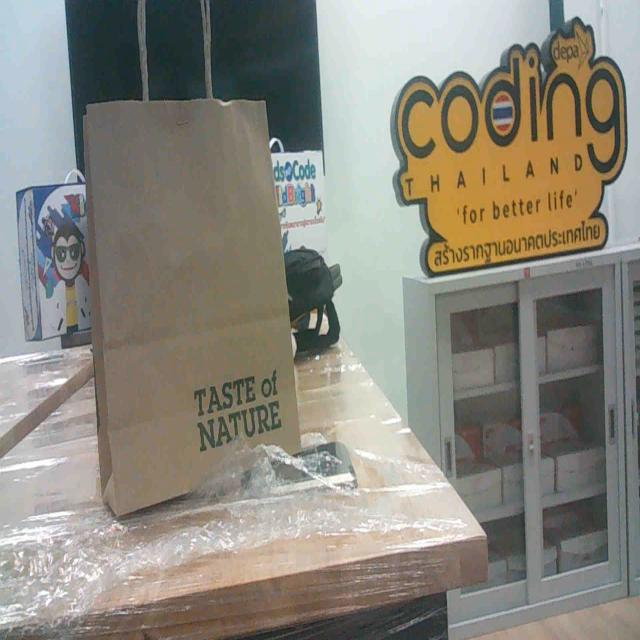bag: (67, 72, 313, 510)
